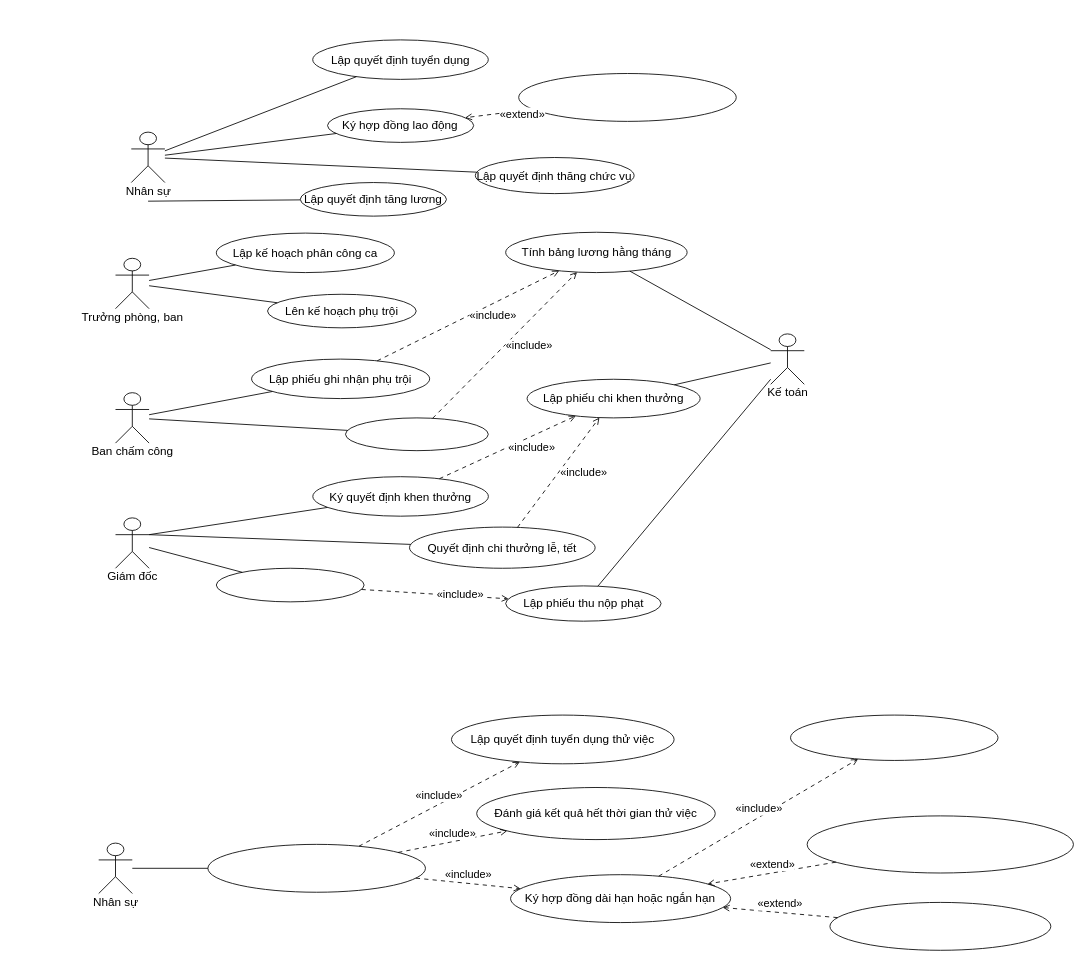
Some shapes in this 1088 by 965 pixel diagram are drawn without their labels. The centre of each missing label's shape, as x and y in pixels:
"Ký quyết định kỷ luật" belongs at [289,584].
"Lập bảng chấm công" belongs at [416,434].
"Lập hồ sơ bảo hiểm (BHYT, BHXH)" belongs at [627,97].
"Lập hồ sơ bảo hiểm y tế và bảo hiểm xã hội" belongs at [939,844].
"Lập quyết định chức vụ và phụ cấp" belongs at [940,926].
"Lập quyết định lương chính thức" belongs at [894,737].
"Tiếp nhận và ký hợp đồng lao động" belongs at [316,868].
